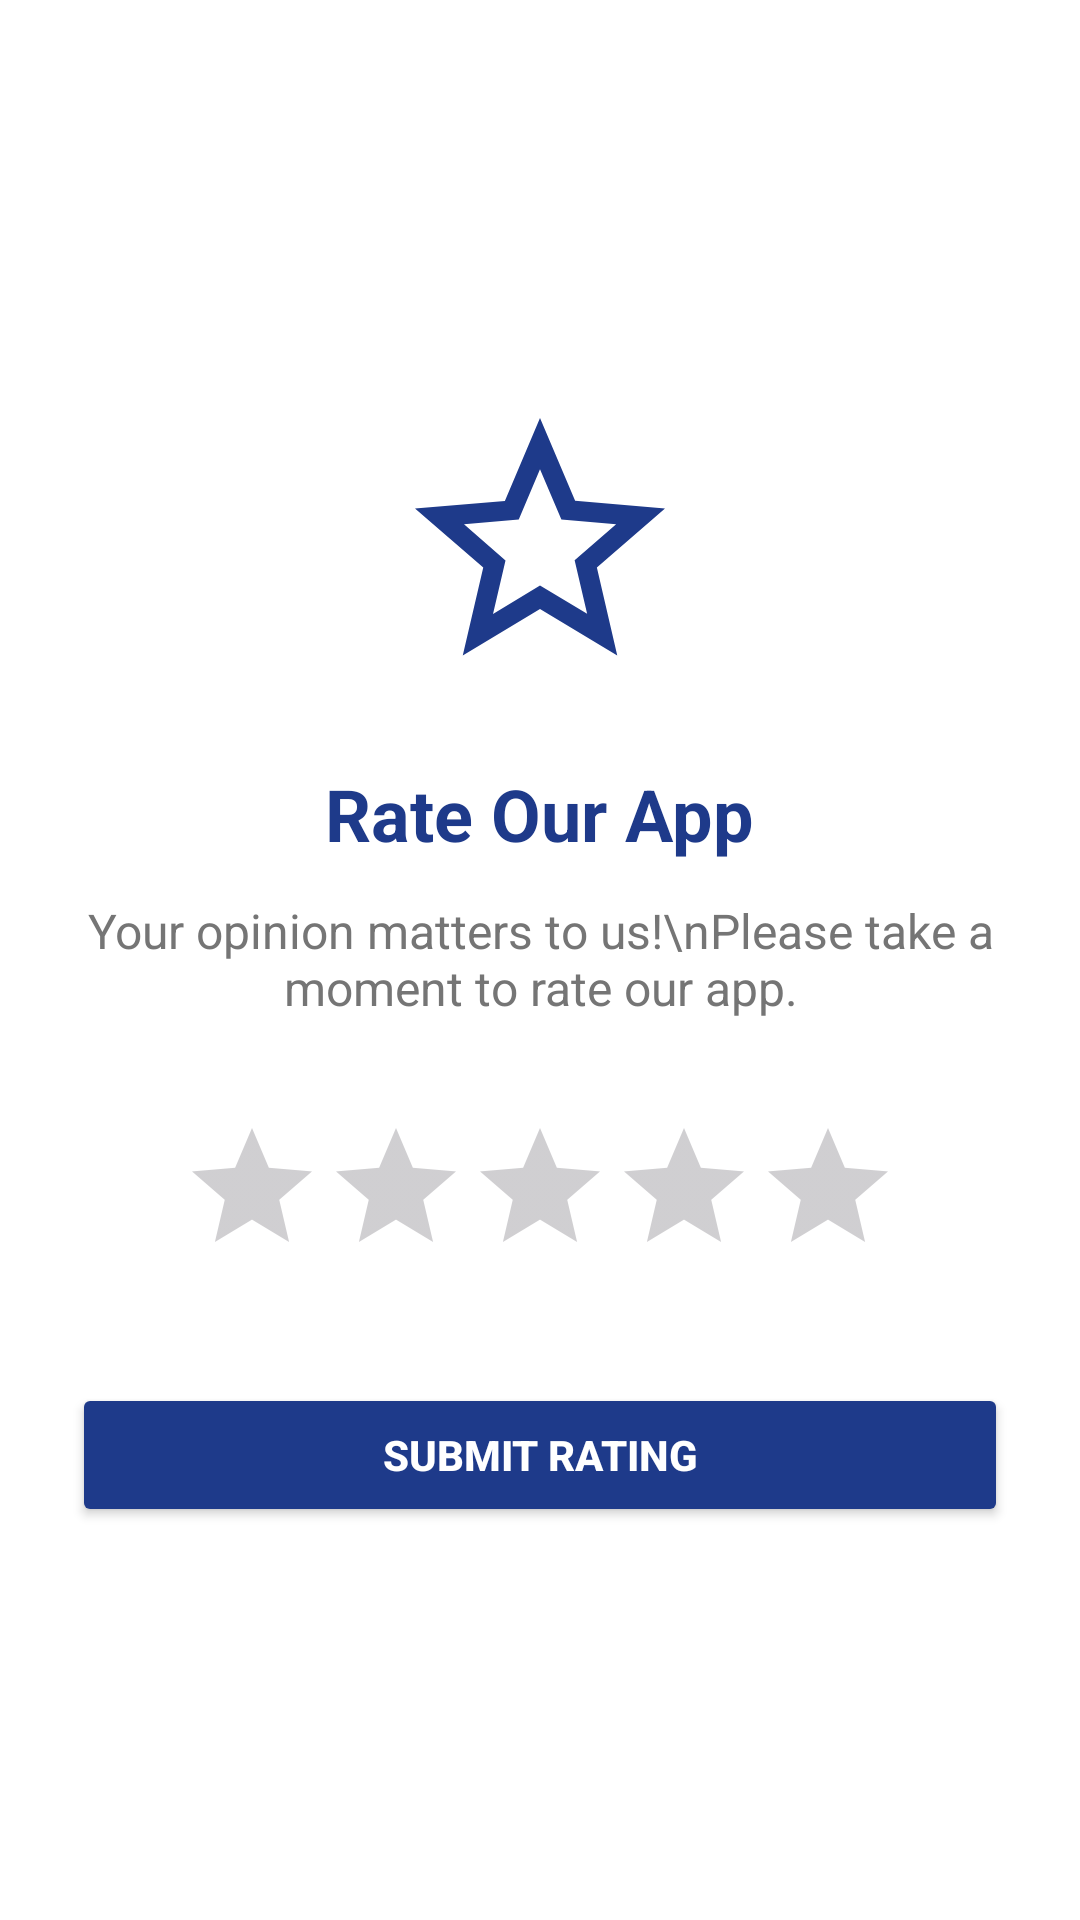

Named icons in this screenshot (1080 × 1920) and their centers, [x,y]:
star: [540,536]
